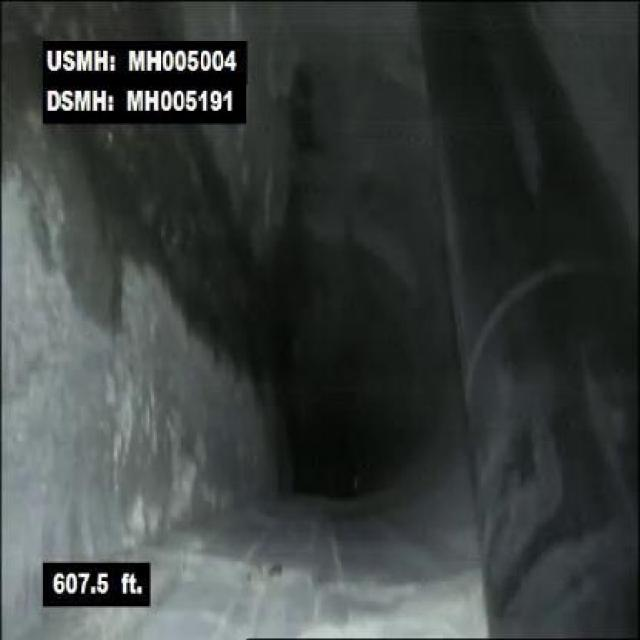Utility intrusion: (414, 4, 632, 636)
